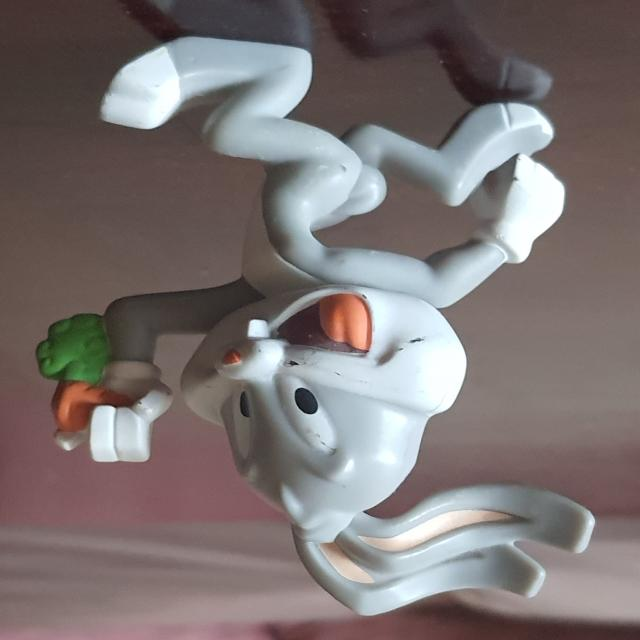Rabbit: (36, 35, 597, 618)
